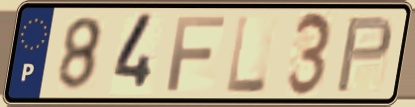3: (283, 8, 335, 100)
4: (111, 10, 159, 97)
8: (55, 13, 106, 93)
F: (164, 14, 229, 93)
L: (224, 12, 270, 96)
P: (333, 14, 395, 95)
